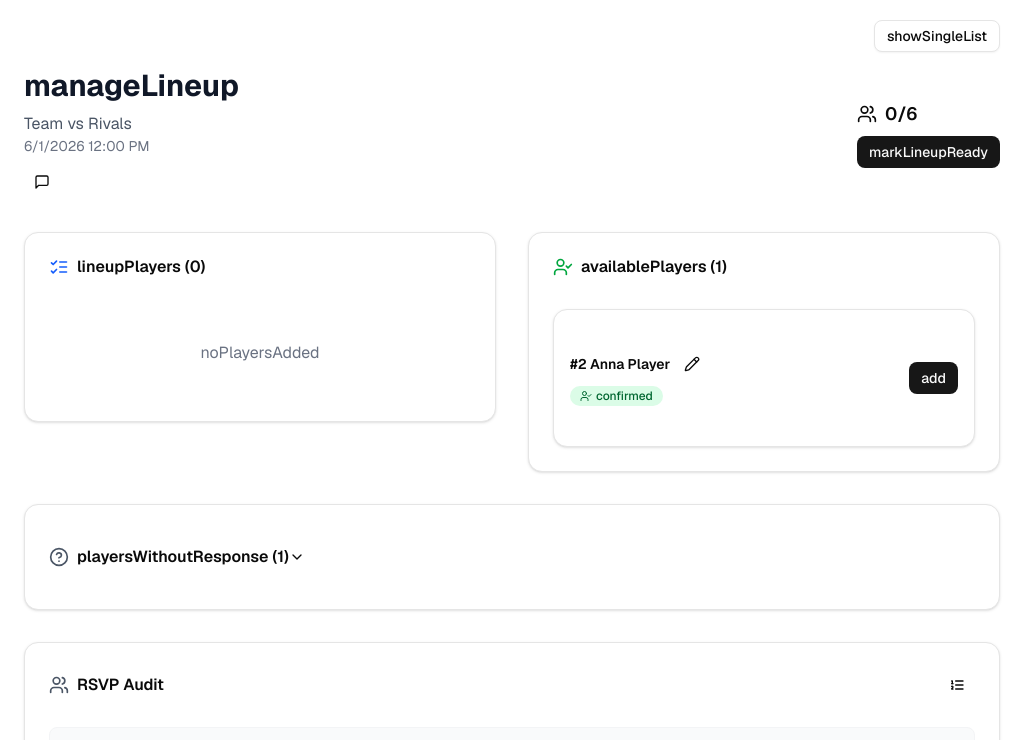
Test case: captain RSVP controls › preserves both player editor drafts while audit entries load in single-list mode: true
Click the button "showSingleList" at (937, 36), box 874,20 -> 1000,52
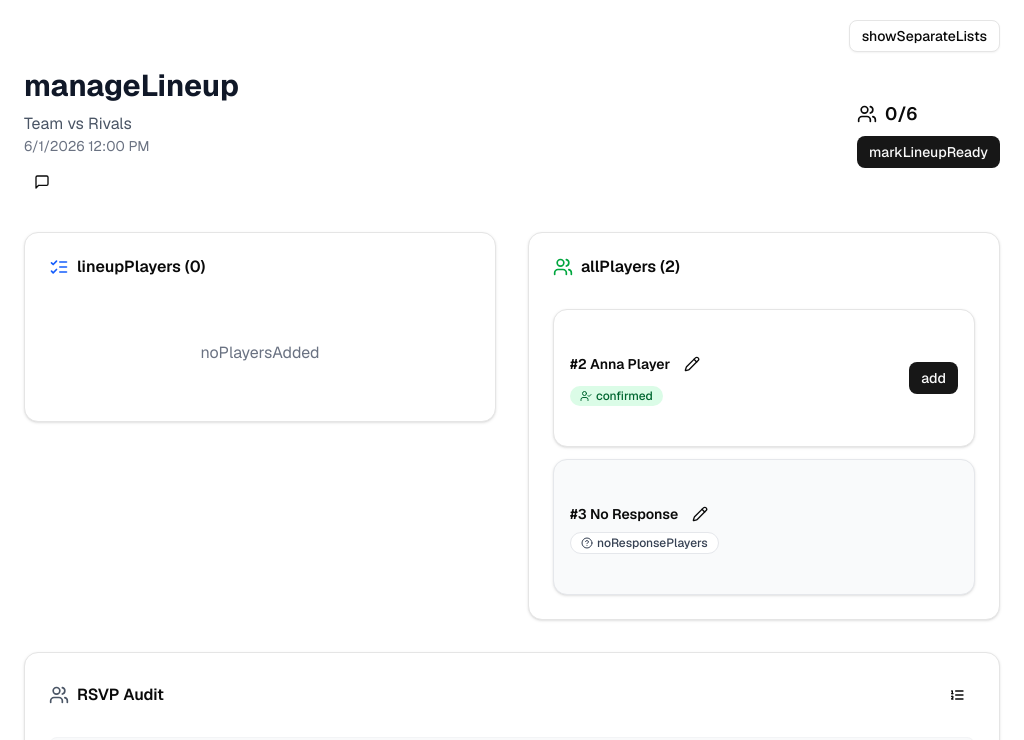
Click the 1st button named "editRsvp" at (692, 364), box 678,350 -> 706,378
(page scrolled)
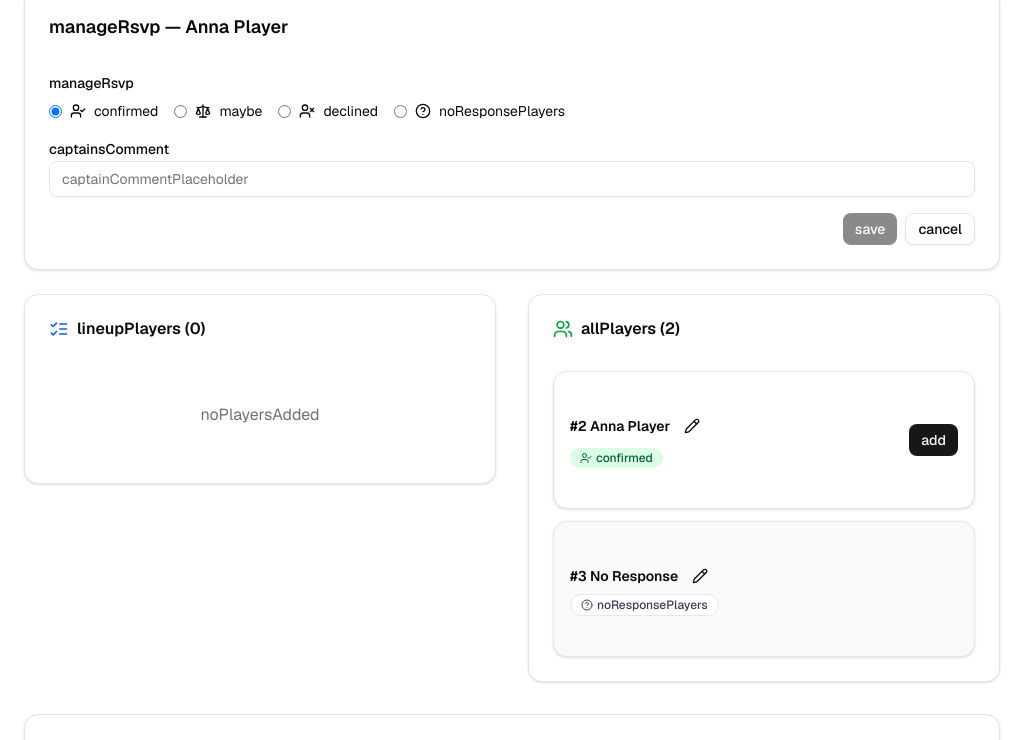
Click the radio button labelled "maybe" at (181, 111), box 174,104 -> 187,118
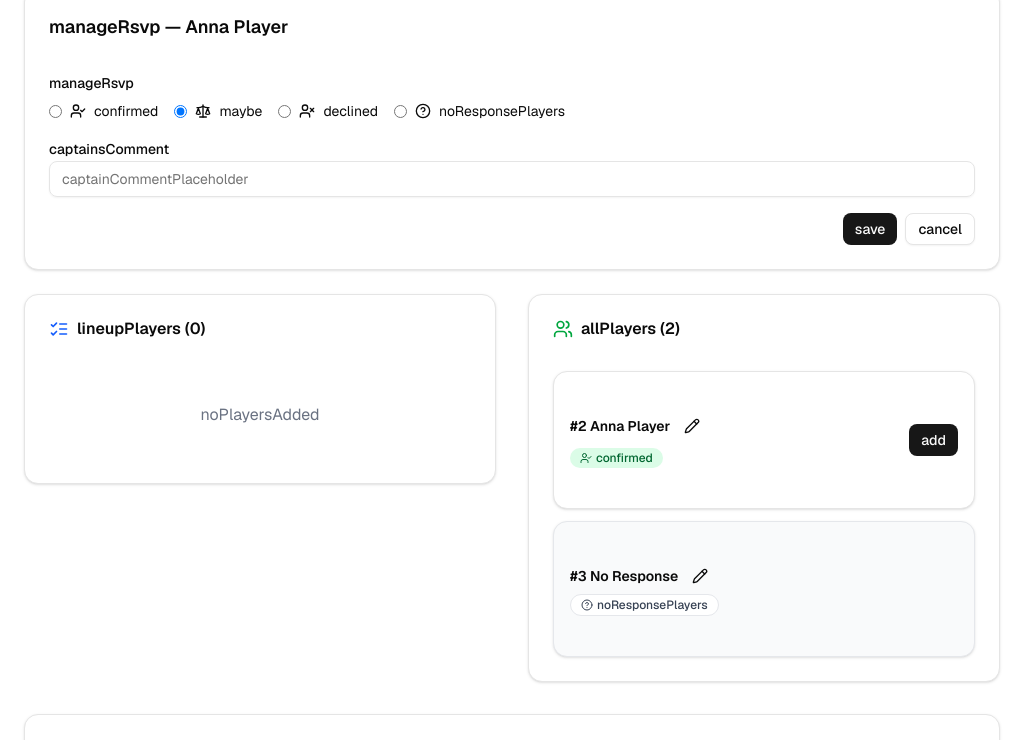
Type "Draft" into the field labelled "captainsComment" at (512, 179), box 49,161 -> 975,197
(page scrolled)
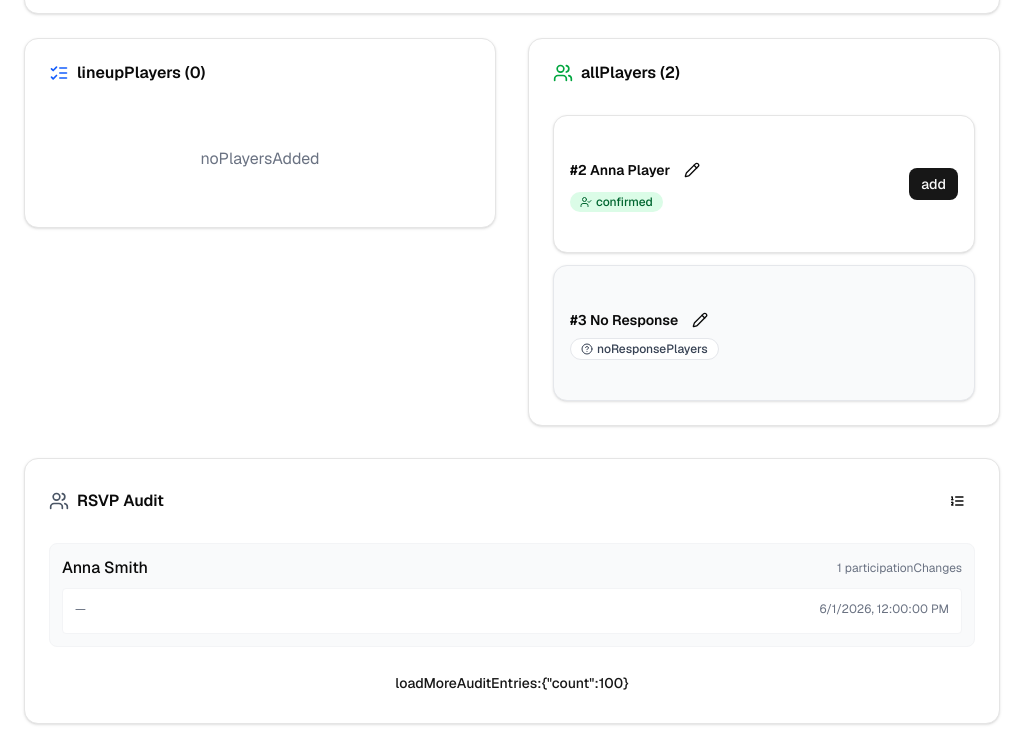
Click the button "loadMoreAuditEntries:{\"count\":100}" at (512, 683), box 383,667 -> 641,699
(page scrolled)
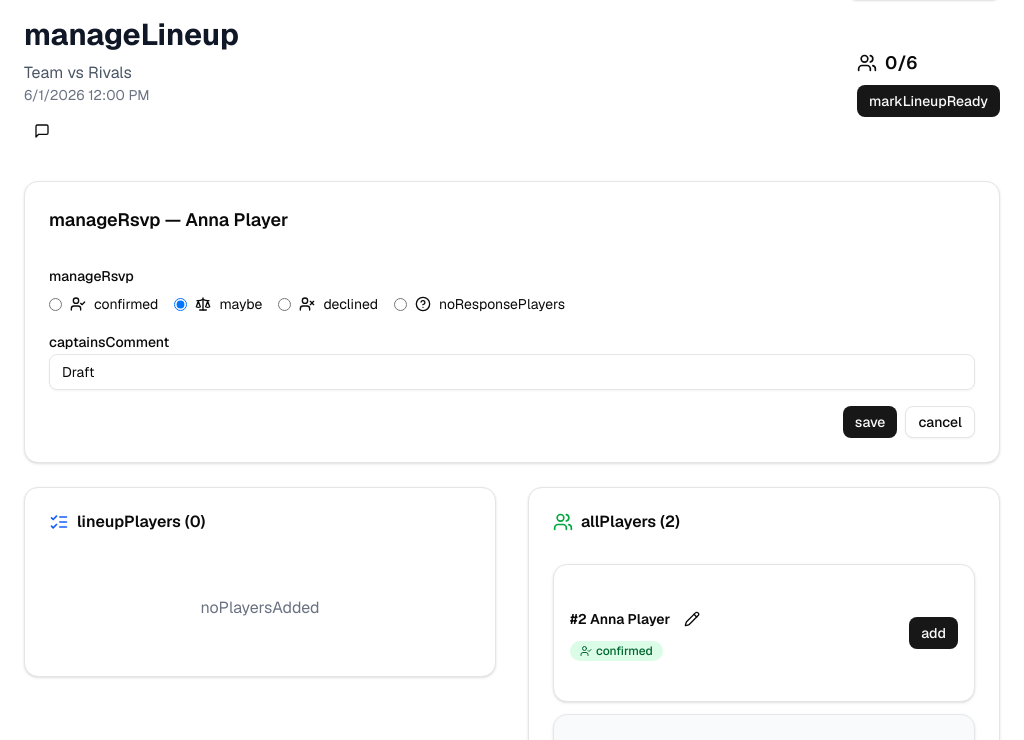
Now the radio button labelled "maybe" is checked, box 174,298 -> 187,310
Now the button "loadMoreAuditEntries" is gone
